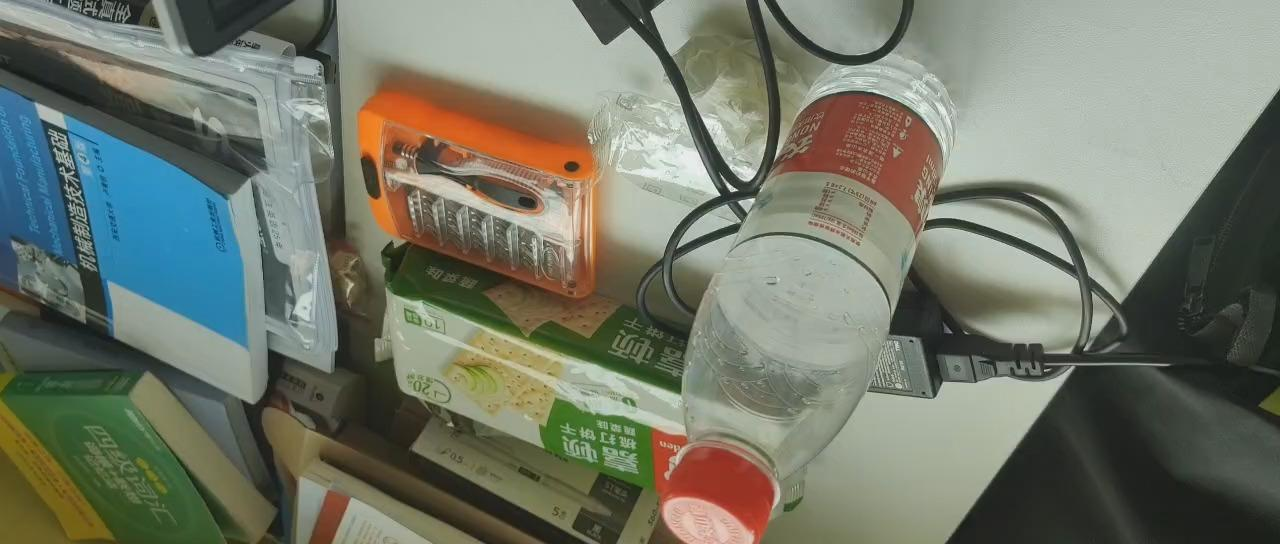BIODEGRADABLE: (667, 39, 956, 537)
